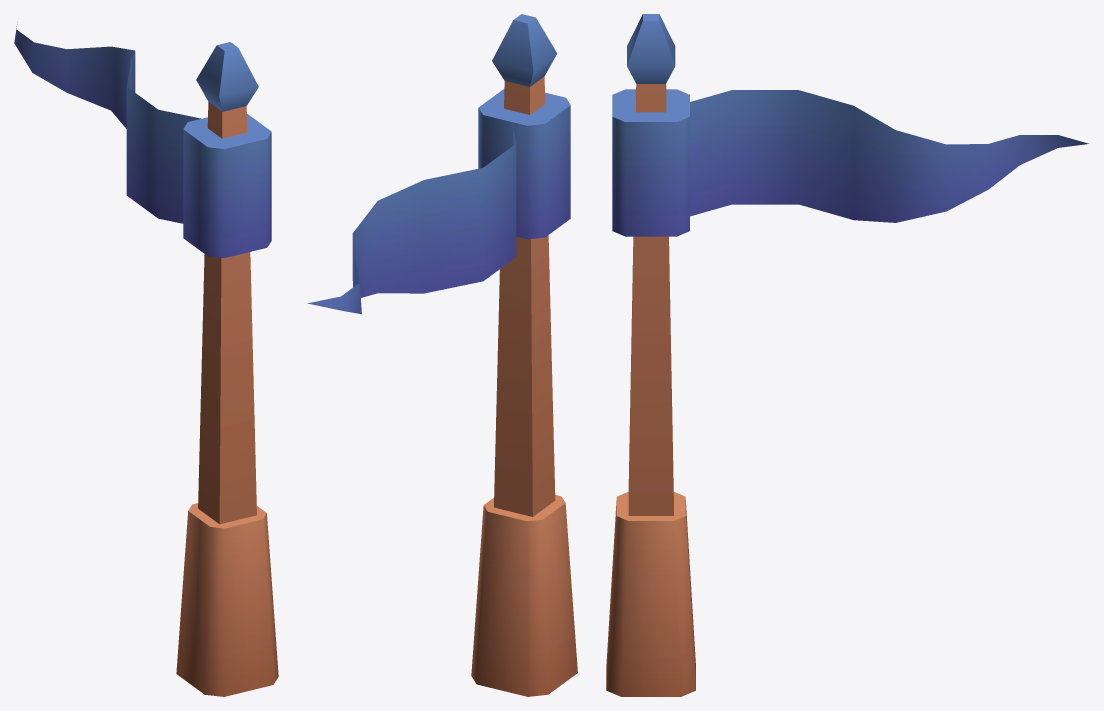
Rendered from pennant.glb.
3 views of the same model, side by side, from view 1: azimuth 30°, elevation 25°; view 2: azimuth 150°, elevation 25°; view 3: azimuth 270°, elevation 25° (orthographic). The views are drawn at different scales.
Parts seen in each view (by area): view 1: flag-pennant; view 2: flag-pennant; view 3: flag-pennant.
Boxes of the visible parts, left/top/right/bottom form: flag-pennant: left=14, top=22, right=278, bottom=696; flag-pennant: left=307, top=14, right=577, bottom=696; flag-pennant: left=606, top=14, right=1088, bottom=696.
Size of the model in its own units: 0.4917 by 4 by 2.65.
Materials: 1 (1 with a texture image).
